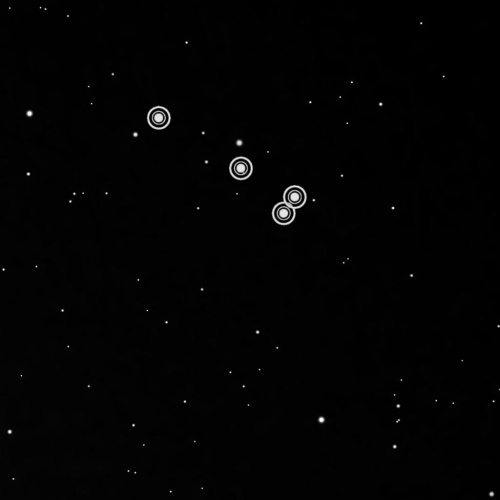sagitta: (139, 96, 319, 235)
